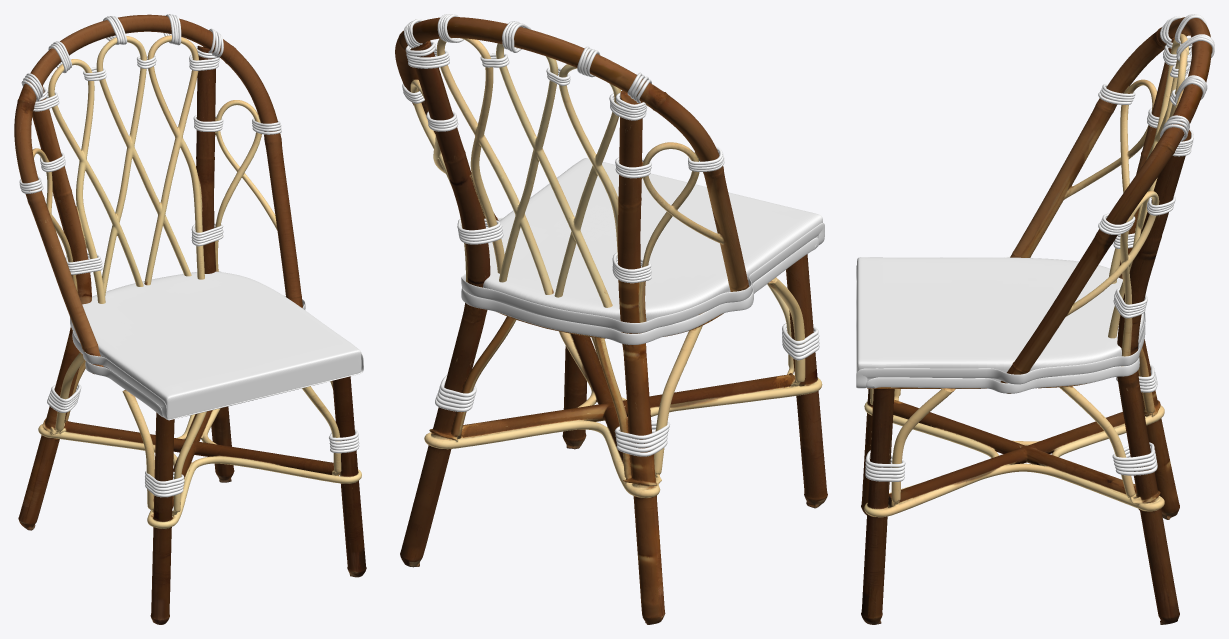
The model's file is resille-bourdon.glb.
3 renders of one model, left to right at view 1: azimuth 30°, elevation 25°; view 2: azimuth 150°, elevation 25°; view 3: azimuth 270°, elevation 25°, orthographic. The views are drawn at different scales.
Parts seen in each view (by area): view 1: mesh_structure, mesh_tressage, mesh_laniere; view 2: mesh_structure, mesh_tressage, mesh_laniere; view 3: mesh_structure, mesh_tressage, mesh_laniere.
Part boxes in pixels (bbox=[...]): mesh_structure: bbox=[14, 14, 366, 624]; mesh_tressage: bbox=[74, 271, 361, 419]; mesh_laniere: bbox=[19, 14, 363, 497]; mesh_structure: bbox=[395, 17, 827, 624]; mesh_tressage: bbox=[483, 158, 822, 331]; mesh_laniere: bbox=[402, 14, 824, 456]; mesh_structure: bbox=[861, 17, 1212, 624]; mesh_tressage: bbox=[857, 257, 1144, 381]; mesh_laniere: bbox=[856, 14, 1214, 481].
Bounding box in the file's own units: 0.5127 × 0.9055 × 0.5496.
Materials: 3 (1 with a texture image).
